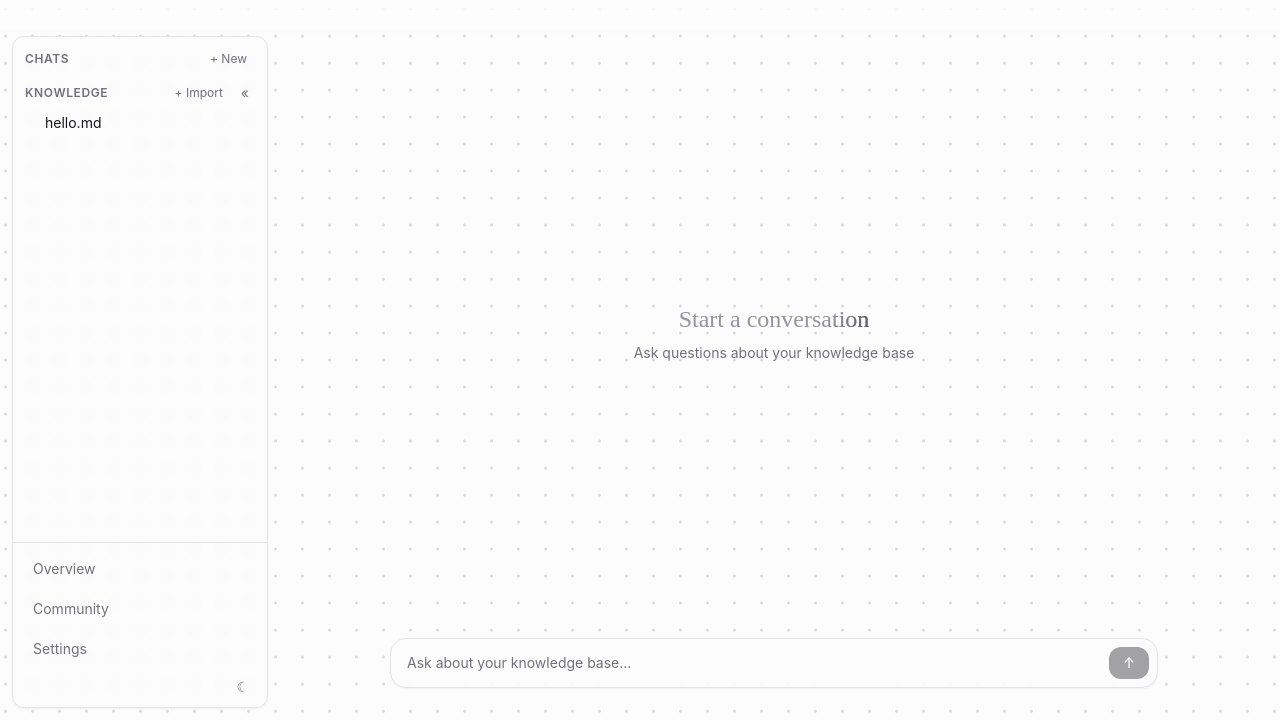
Test: FileTree click → editor view wiring › Cancel button in editor returns to chat view
Click the text "hello.md" at (73, 123), box [45,113,102,133]
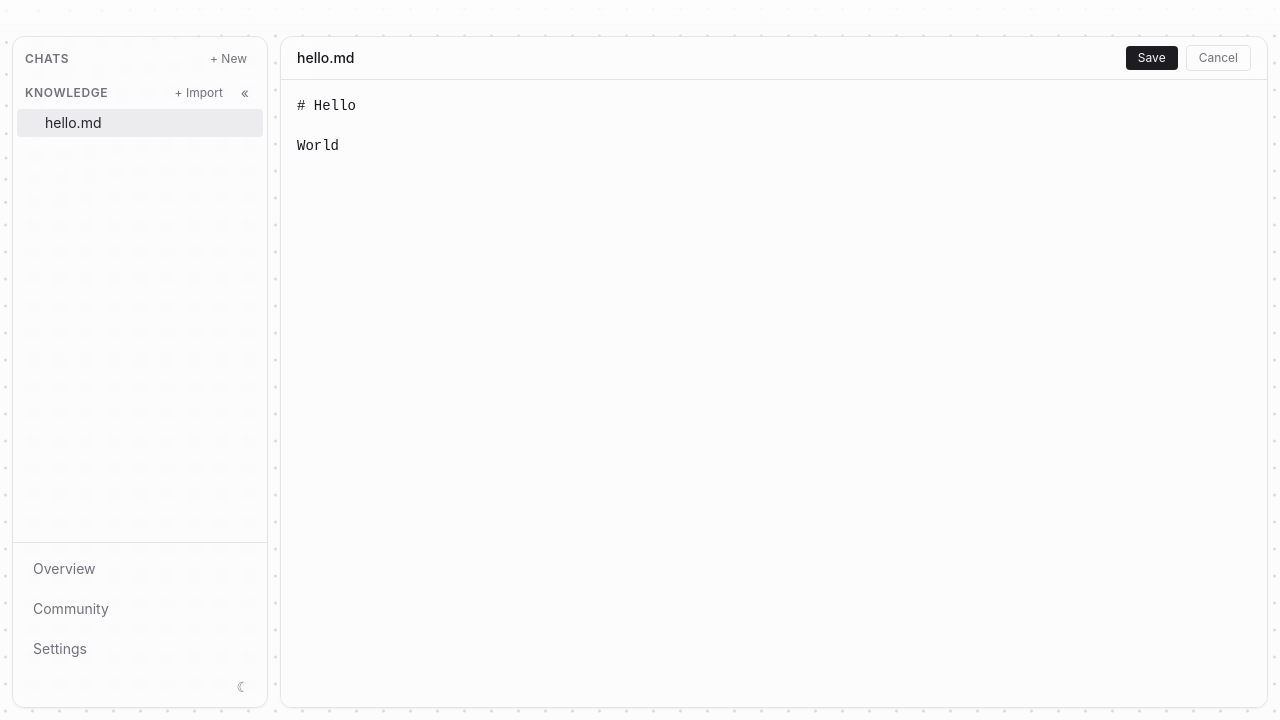
Now the element with test id "markdown-editor" is shown
Click the button with test id "editor-cancel-button" at (1218, 58), box [1186,45,1251,71]
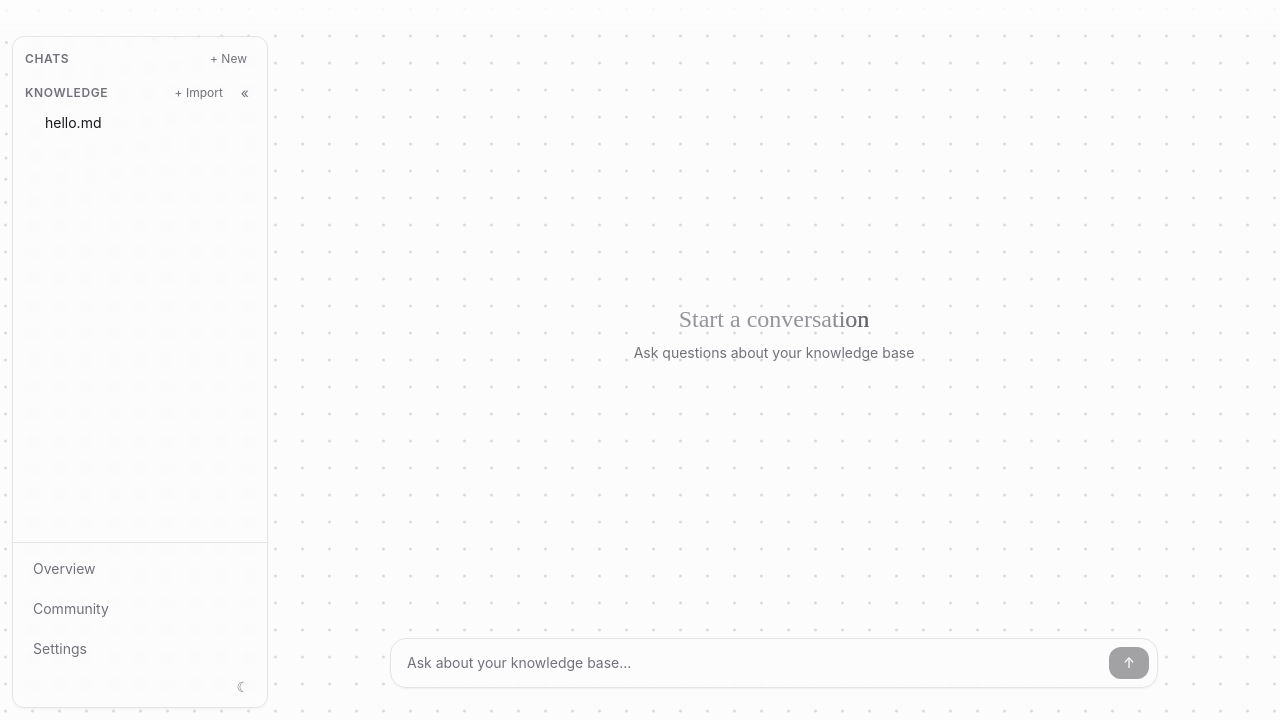
Now the element with test id "chat-area" is shown, box [390,303,1158,688]
Now the element with test id "markdown-editor" is gone
